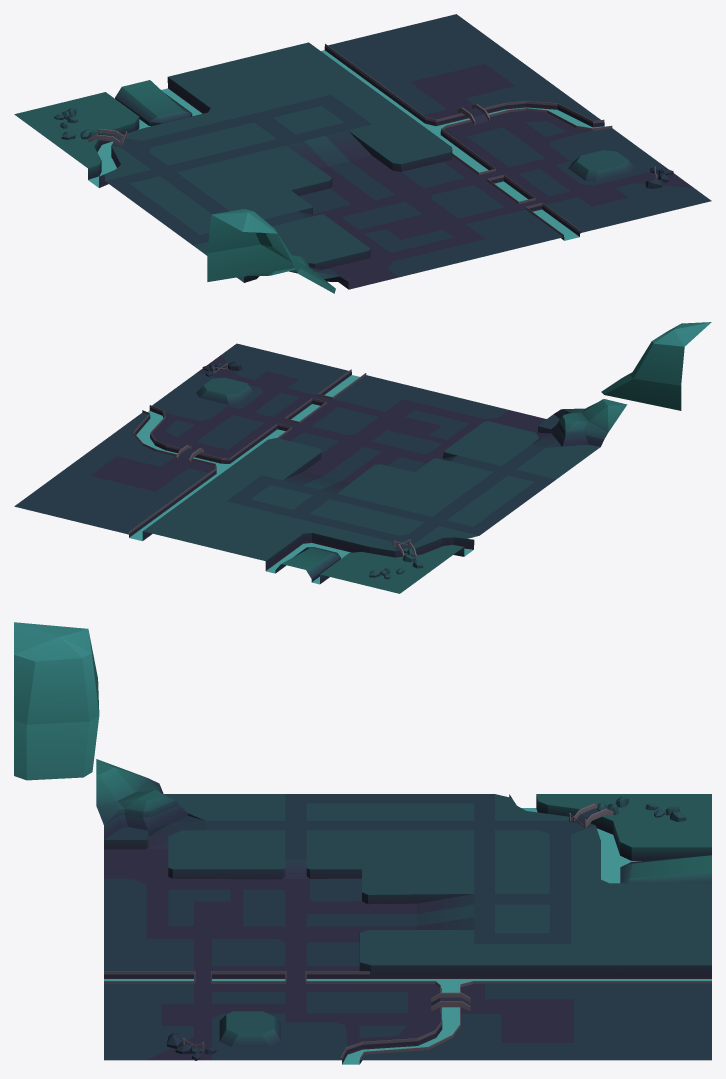
Rendered from WORLD.gltf.
The picture shows the model from 3 angles, top to bottom: view 1: azimuth 30°, elevation 25°; view 2: azimuth 150°, elevation 25°; view 3: azimuth 270°, elevation 25°; orthographic projection. The views are drawn at different scales.
Parts seen in each view (by area): view 1: WORLD; view 2: WORLD; view 3: WORLD.
Boxes of the visible parts, x1,y1,x2,y2 form: WORLD: (14, 14, 711, 293); WORLD: (14, 322, 711, 593); WORLD: (14, 622, 711, 1064).
Bounding box in the file's own units: 275 × 65.89 × 276.
Materials: 2 (2 with a texture image).
